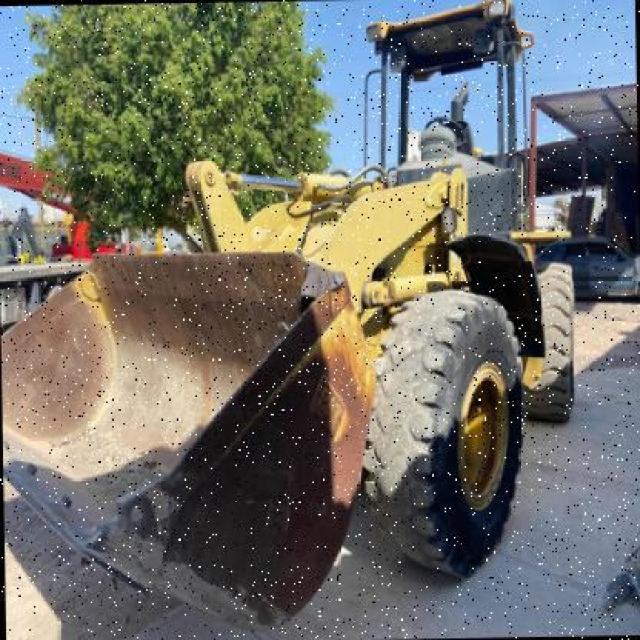buldozerpayloadergrader: (0, 0, 580, 618)
